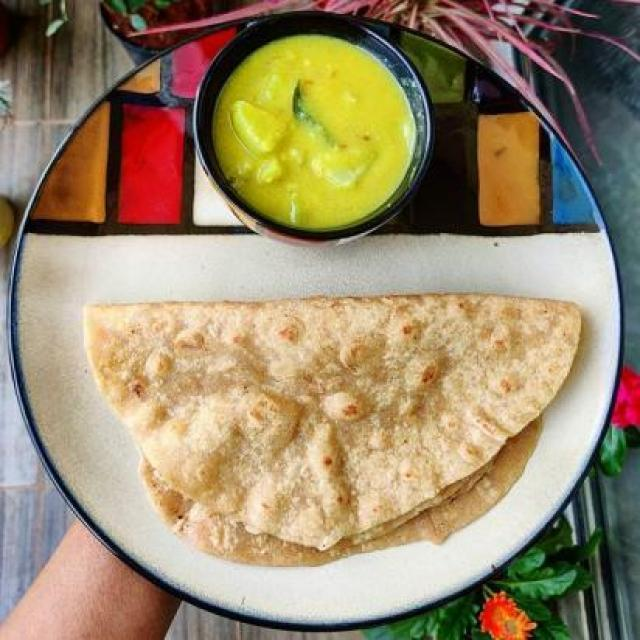alooparatha-chapati: (65, 281, 590, 553)
